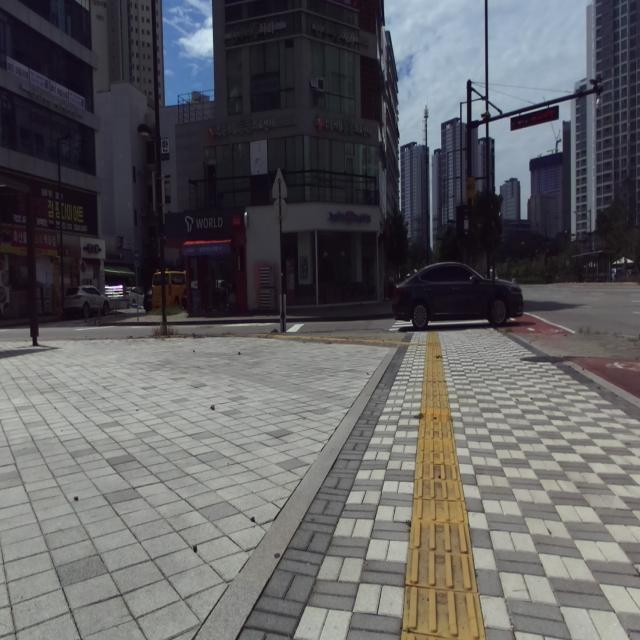횡단보도: (389, 318, 489, 332)
